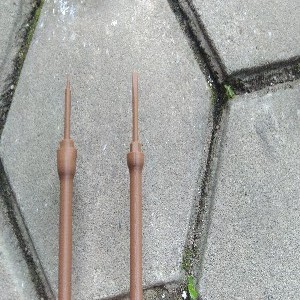obeng: (126, 72, 145, 300)
solder: (56, 77, 78, 300)
